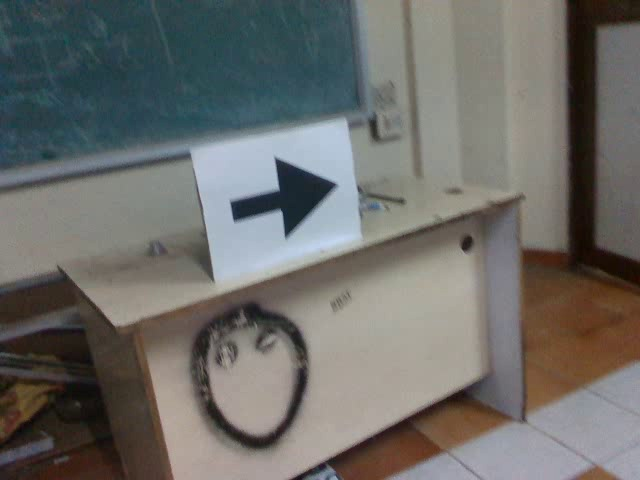Right: (227, 153, 340, 241)
